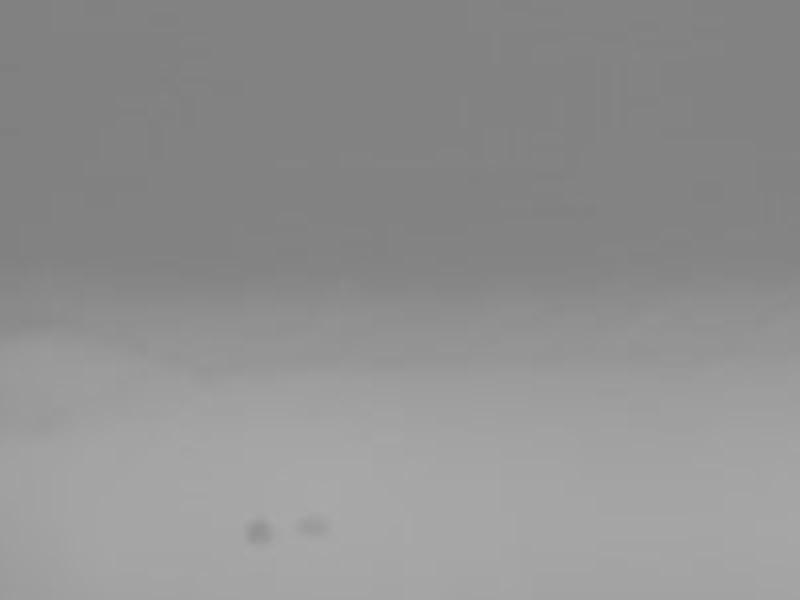defect: (244, 513, 278, 546), (295, 511, 328, 537)
